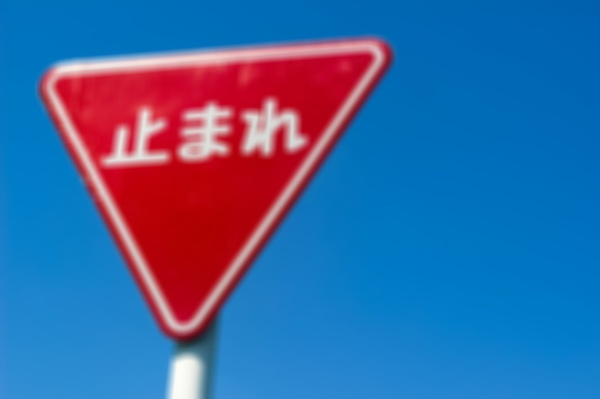Regulatory_sign_triangle: (26, 31, 397, 342)
